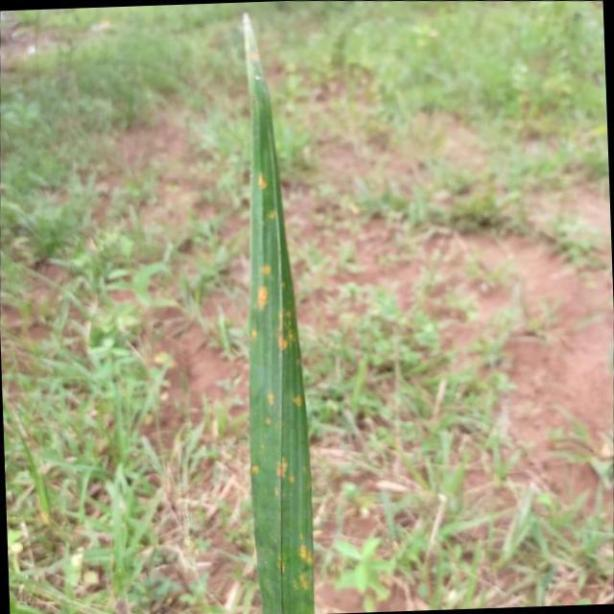Kalium: (246, 9, 319, 614)
